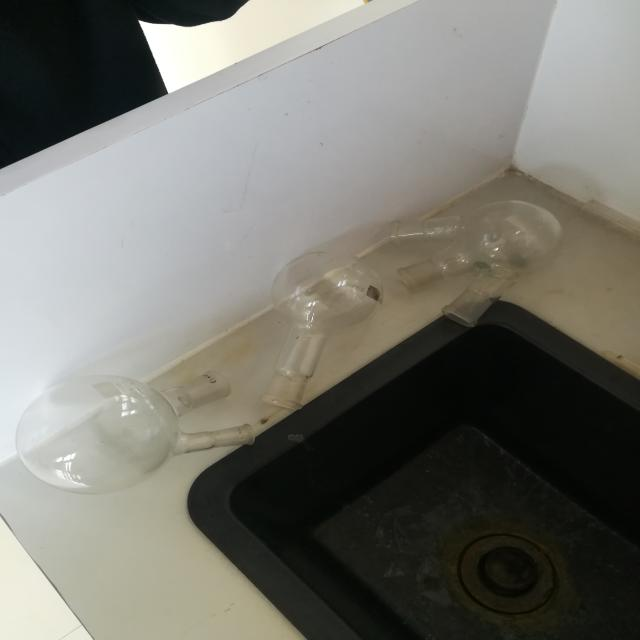Round_Bottom_Flask_Borosilicate_Glass_1_Neck: (254, 231, 404, 426)
Round_Bottom_Flask_Borosilicate_Glass_2_Neck: (2, 350, 274, 494)
Round_Bottom_Flask_Borosilicate_Glass_3_Neck: (388, 160, 594, 344)
